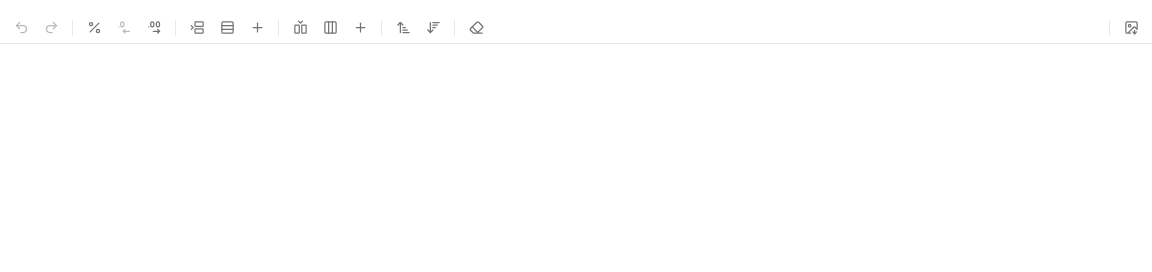
Test: SheetToolbar › 서식 팝오버: 트리거는 현재 서식을 접근 이름에 싣고, 고르면 콜백이 온다
Click the button with test id "sheet-format-trigger" at (94, 28), box [81, 14, 107, 40]
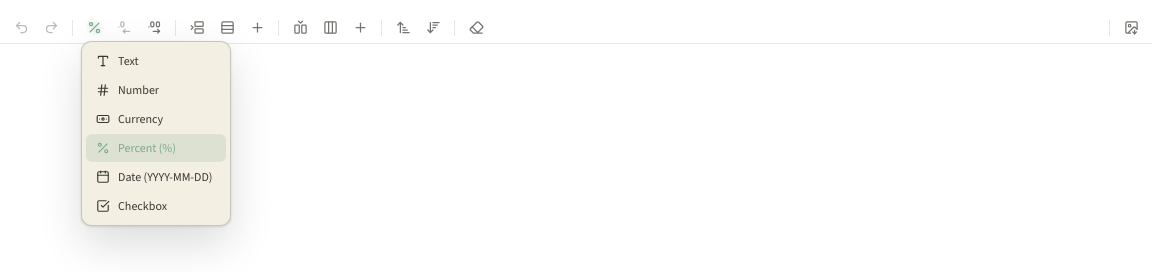
Expected: the number of options is 6
Expected: the option "Percent (%)" is shown, [86, 134, 226, 162]
Click the option "Date (YYYY-MM-DD)" at (156, 176), box [86, 162, 226, 190]
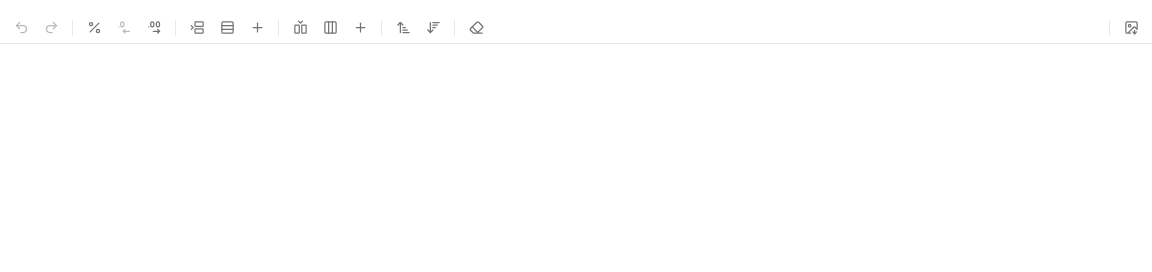
Expected: the list with test id "sheet-format-list" is gone
